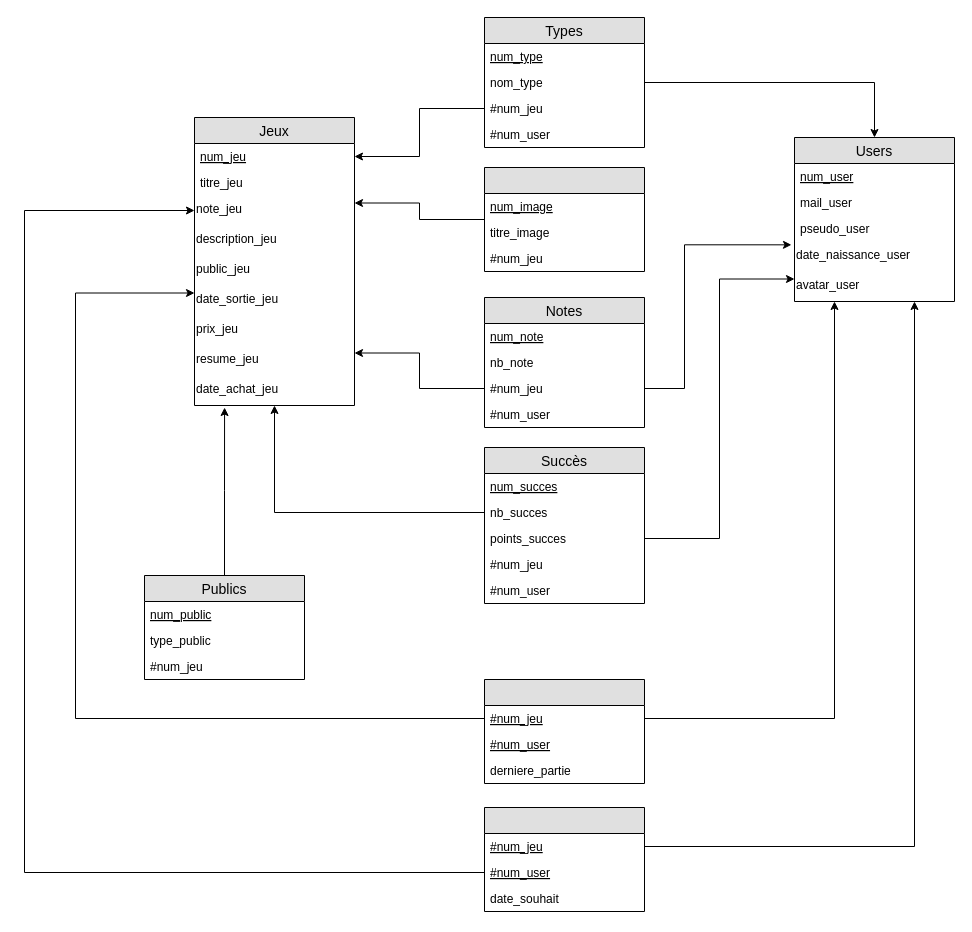
Image size: 972x932. Some labels were removed from this diagram. The shapes that lost their labels are listed below. From the top down, each one's box as (x1, y1, x2, y2) in pixels, then its label:
(484, 166, 644, 272): Images
(484, 678, 644, 784): Parties
(484, 806, 644, 912): Souhaits
